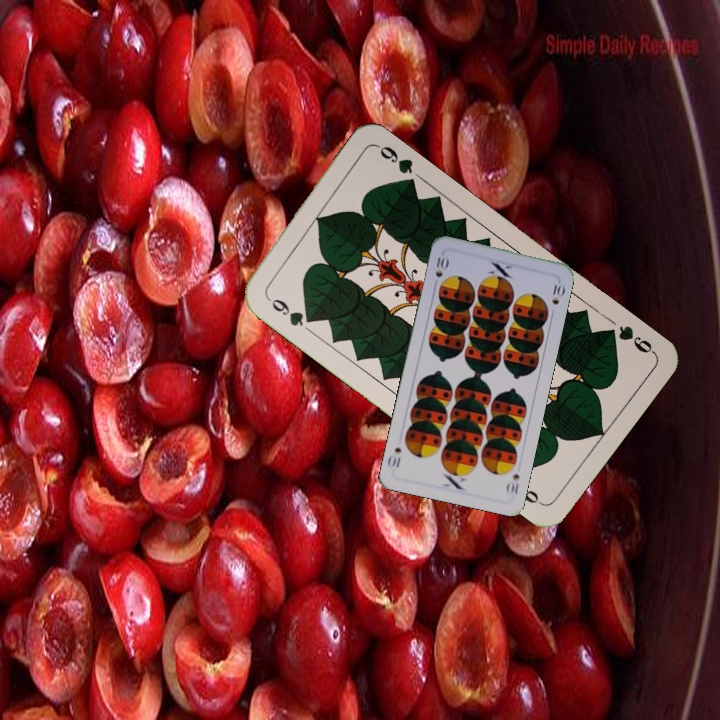G9: (261, 291, 317, 329), (599, 321, 657, 356)
S10: (430, 253, 450, 290), (502, 470, 522, 497)
